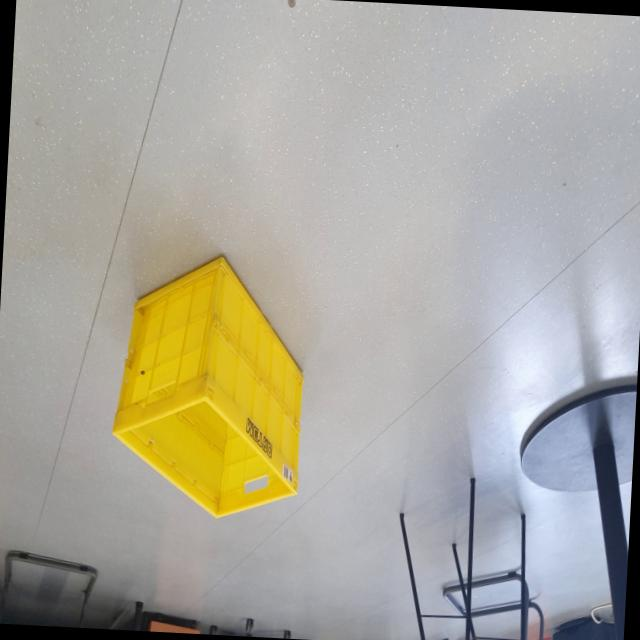box: (102, 242, 315, 534)
